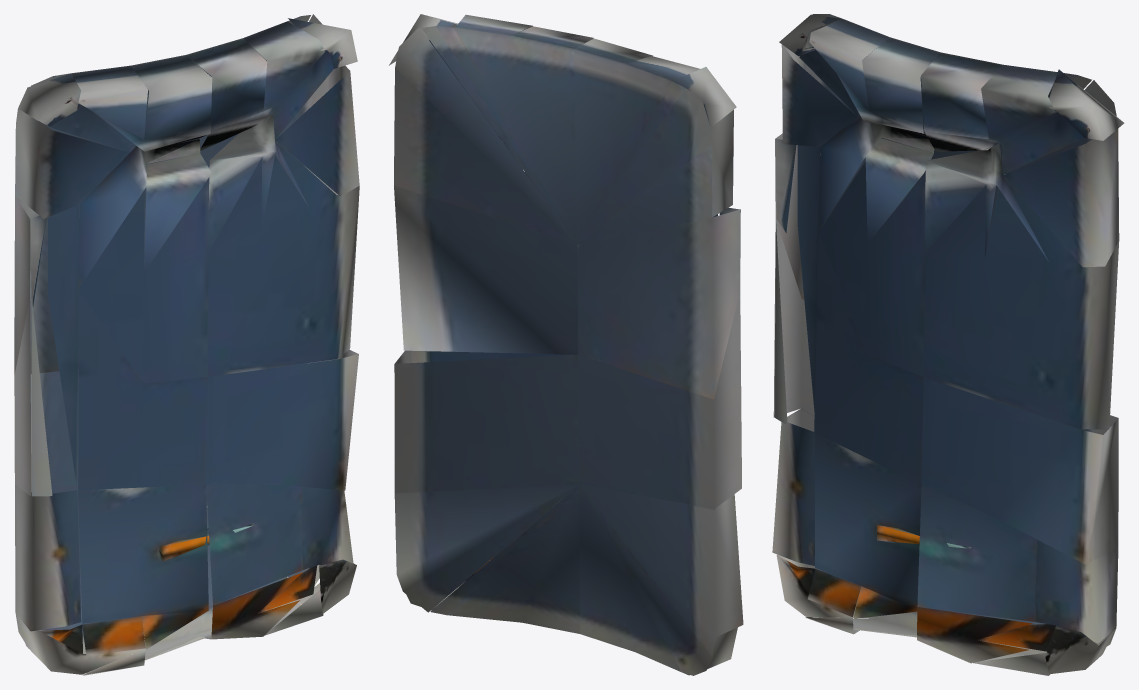
Rendered from s_shield_crest_lod1.fbx.
The picture shows the model from 3 angles, left to right: view 1: azimuth 30°, elevation 25°; view 2: azimuth 150°, elevation 25°; view 3: azimuth 330°, elevation 25°; orthographic projection.
Visible parts, largest first — view 1: tripo_node_598ce32c-a5a7-4877-a8bc-aef545b9b017; view 2: tripo_node_598ce32c-a5a7-4877-a8bc-aef545b9b017; view 3: tripo_node_598ce32c-a5a7-4877-a8bc-aef545b9b017.
Boxes of the visible parts, x1,y1,x2,y2 form: tripo_node_598ce32c-a5a7-4877-a8bc-aef545b9b017: [14, 14, 359, 675]; tripo_node_598ce32c-a5a7-4877-a8bc-aef545b9b017: [389, 14, 743, 675]; tripo_node_598ce32c-a5a7-4877-a8bc-aef545b9b017: [772, 14, 1124, 675].
Size of the model in its own units: 0.5627 by 0.954 by 0.1272.
